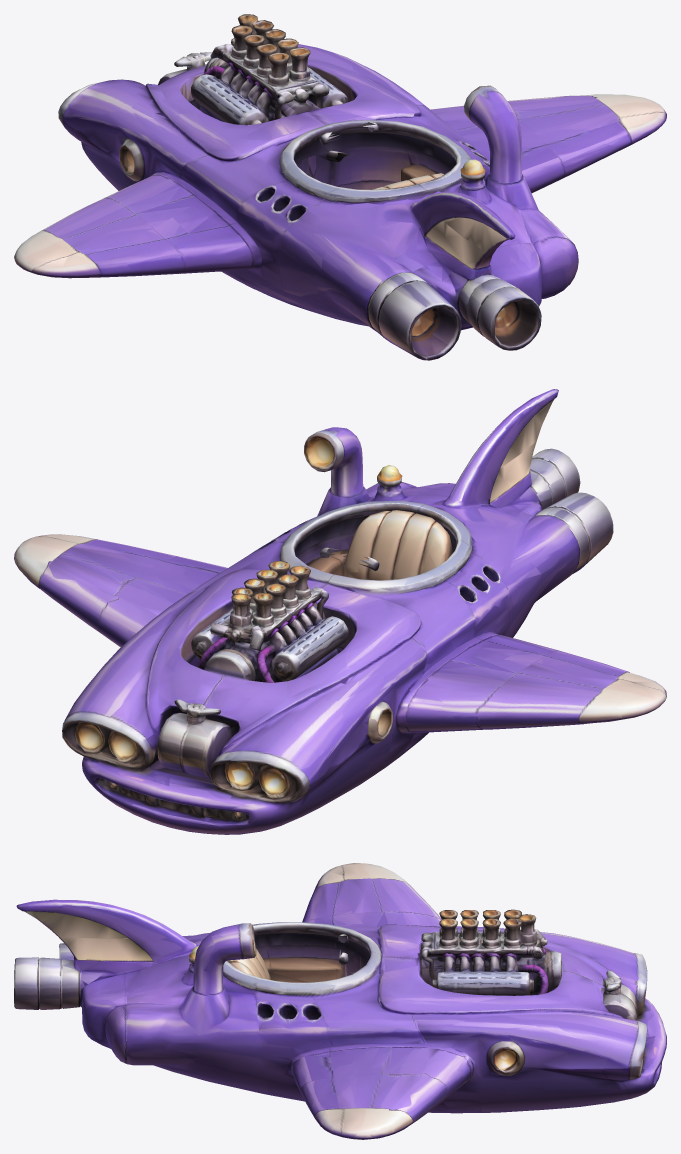
3 views of the same model, one above another, from view 1: azimuth 30°, elevation 25°; view 2: azimuth 150°, elevation 25°; view 3: azimuth 270°, elevation 25° (orthographic). The views are drawn at different scales.
Parts seen in each view (by area): view 1: LOD0; view 2: LOD0; view 3: LOD0.
Part boxes in pixels (x1=…): LOD0: x1=14, y1=14, x2=666, y2=360; LOD0: x1=14, y1=389, x2=666, y2=834; LOD0: x1=14, y1=863, x2=666, y2=1139.
Size of what is drawn, in the model's own units: 3.98 by 1.34 by 4.
